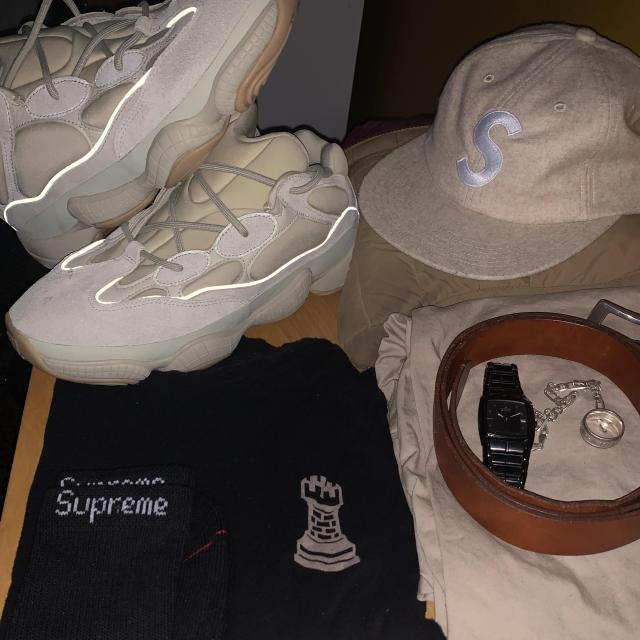shoe: (6, 146, 353, 390), (0, 0, 298, 236)
